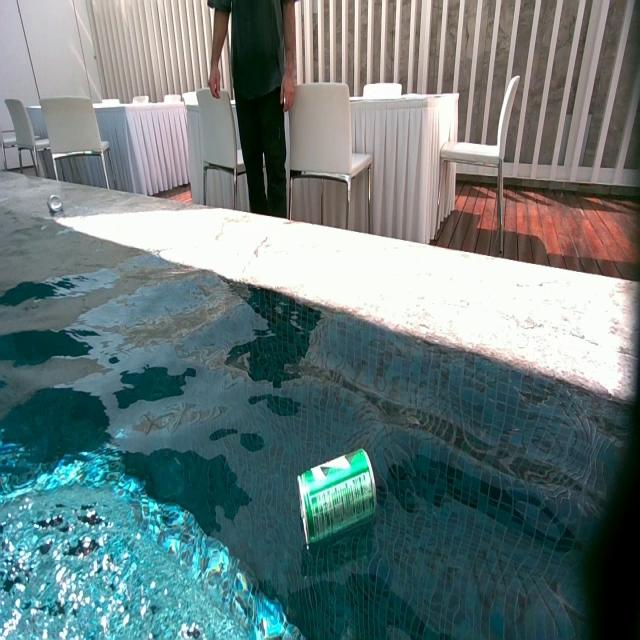Cans: (296, 447, 378, 550), (47, 194, 61, 212)
